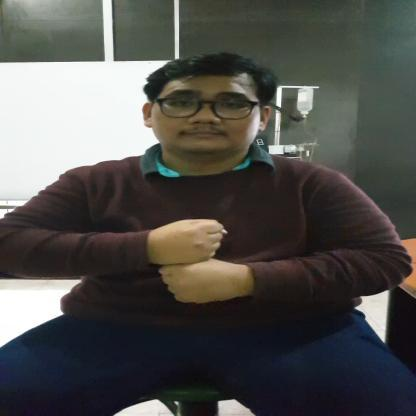G: (147, 214, 255, 307)
